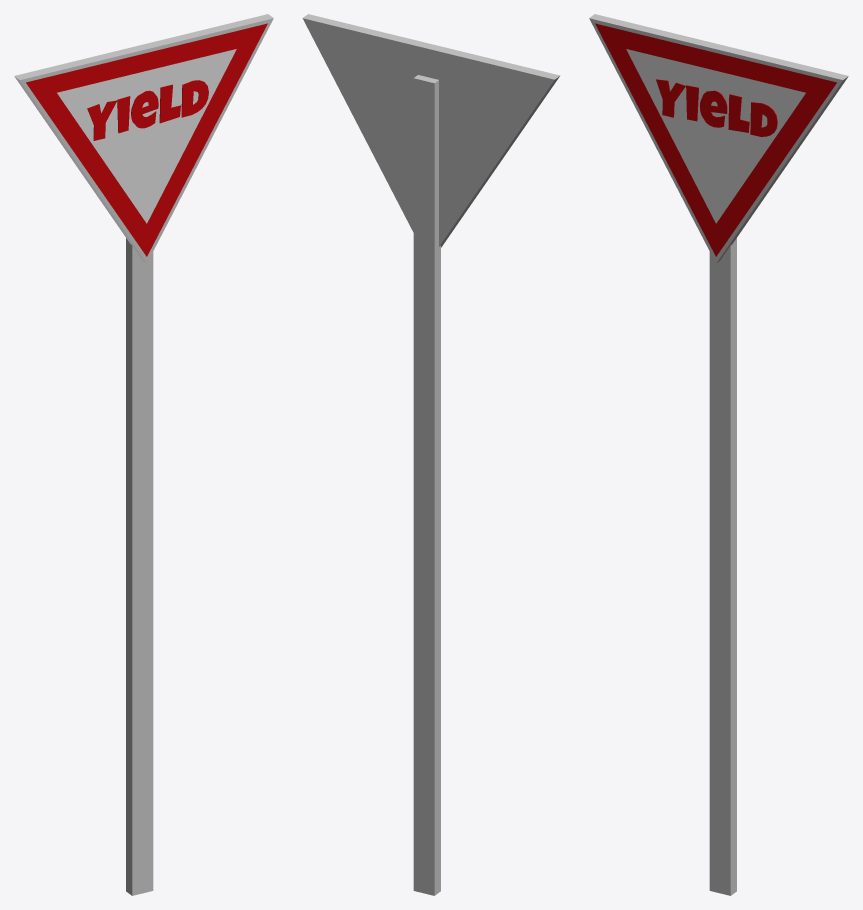
Rendered from YieldSign.fbx.
3 views of the same model, side by side, from view 1: azimuth 30°, elevation 25°; view 2: azimuth 150°, elevation 25°; view 3: azimuth 330°, elevation 25° (orthographic).
Visible parts, largest first — view 1: YieldSign; view 2: YieldSign; view 3: YieldSign.
Part boxes in pixels (left/top/right/bottom): YieldSign: left=14, top=14, right=273, bottom=895; YieldSign: left=302, top=14, right=560, bottom=895; YieldSign: left=589, top=14, right=848, bottom=895.
Size of the model in its own units: 0.6461 by 2.06 by 0.0475.
